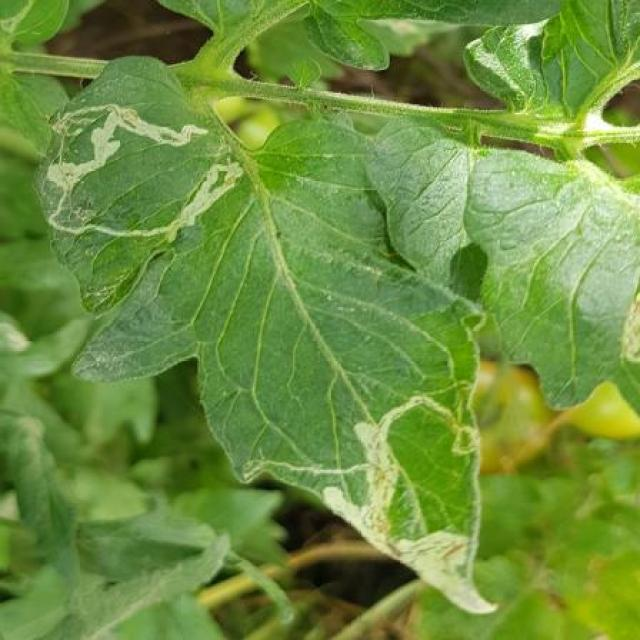Leaf Miner: (32, 55, 502, 614)
